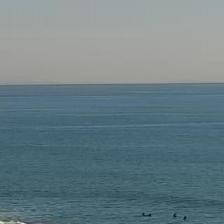surfer: (182, 216, 188, 220), (172, 213, 177, 217), (149, 214, 152, 217), (142, 213, 145, 216)
